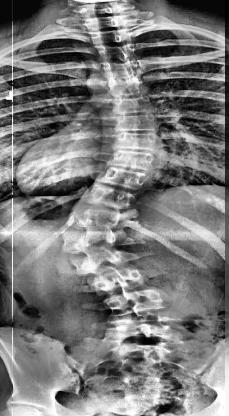Vertebrae: (105, 313, 177, 343), (87, 266, 151, 295), (68, 203, 126, 233), (82, 183, 138, 213), (102, 290, 165, 314), (70, 248, 128, 274), (97, 166, 150, 194), (60, 228, 118, 252), (106, 148, 156, 172), (113, 112, 159, 134), (112, 131, 158, 153), (93, 44, 141, 64), (105, 76, 147, 98), (108, 94, 154, 114), (89, 28, 133, 46), (100, 60, 143, 78), (84, 16, 130, 30)
